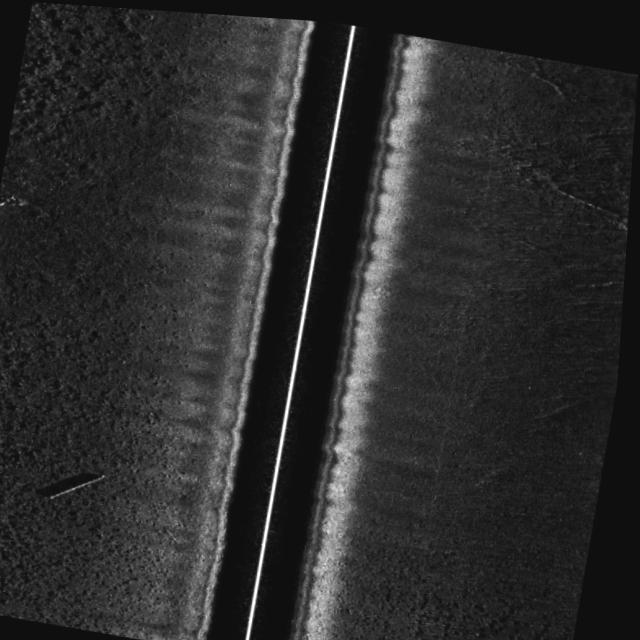other: (37, 455, 120, 512)
